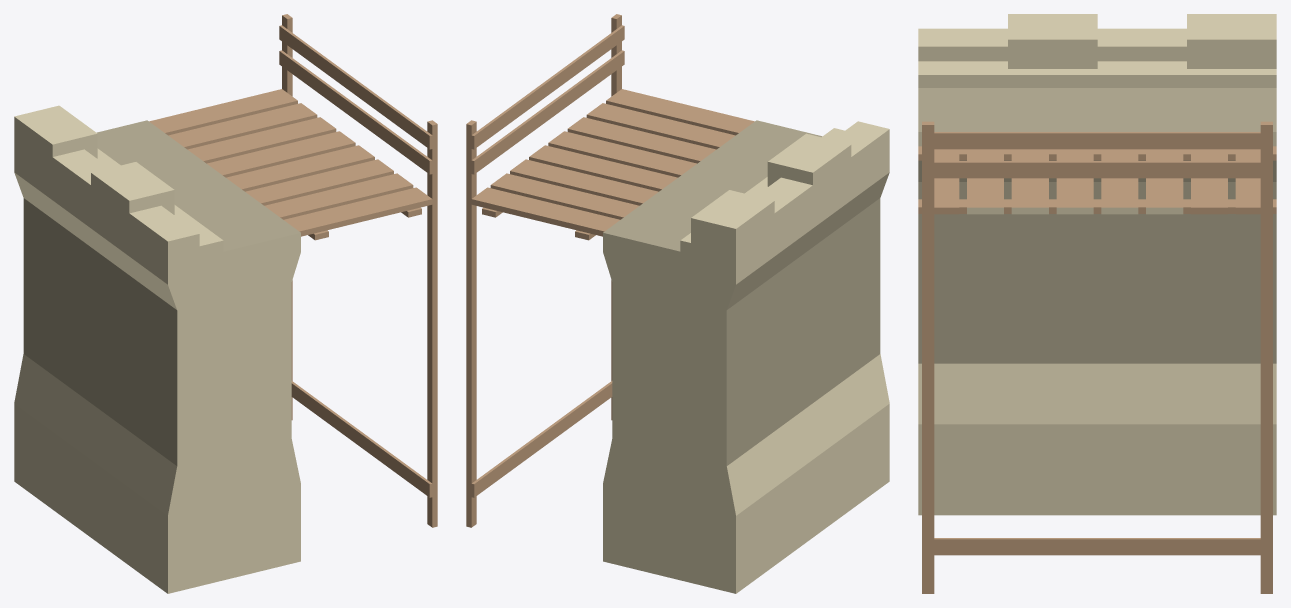
File: wallNarrowWoodFence.fbx
The picture shows the model from 3 angles, left to right: view 1: azimuth 30°, elevation 25°; view 2: azimuth 150°, elevation 25°; view 3: azimuth 270°, elevation 25°; orthographic projection. The views are drawn at different scales.
Visible parts, largest first — view 1: wallNarrowWoodFence, bridge 4; view 2: wallNarrowWoodFence, bridge 4; view 3: wallNarrowWoodFence, bridge 4.
Boxes of the visible parts, box(x1,y1,x2,y2) form: wallNarrowWoodFence: box(14, 105, 300, 593); bridge 4: box(149, 14, 437, 527); wallNarrowWoodFence: box(603, 120, 889, 593); bridge 4: box(466, 14, 754, 527); wallNarrowWoodFence: box(918, 14, 1276, 515); bridge 4: box(918, 121, 1276, 593).
Size of the model in its own units: 10.2 by 14.44 by 10.
